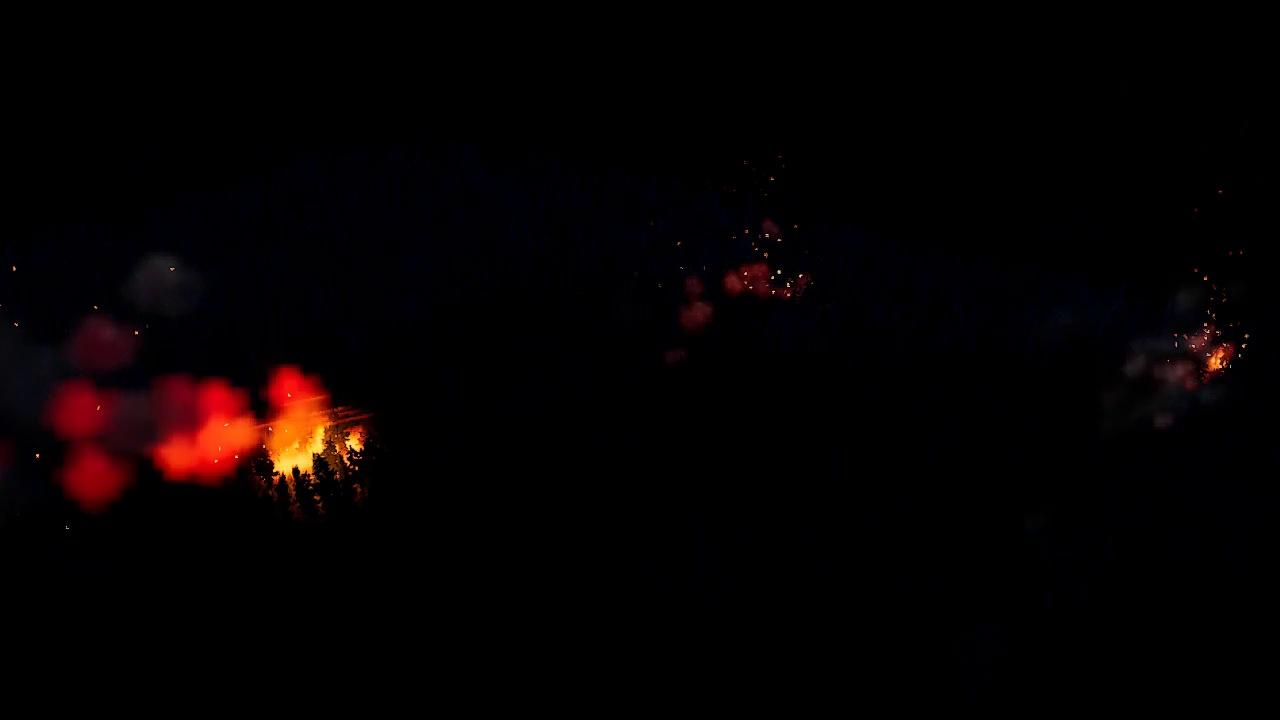fire: (261, 367, 369, 484), (1188, 322, 1242, 379), (729, 263, 810, 301)
smoke: (0, 311, 281, 511), (1092, 278, 1211, 431)
